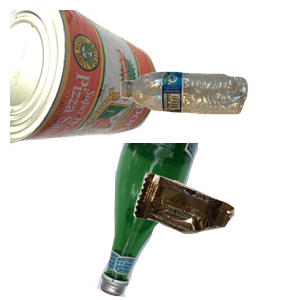glass: (93, 143, 284, 300)
metal: (10, 10, 159, 152)
plastic: (118, 69, 300, 176)
trash: (131, 171, 300, 300)
